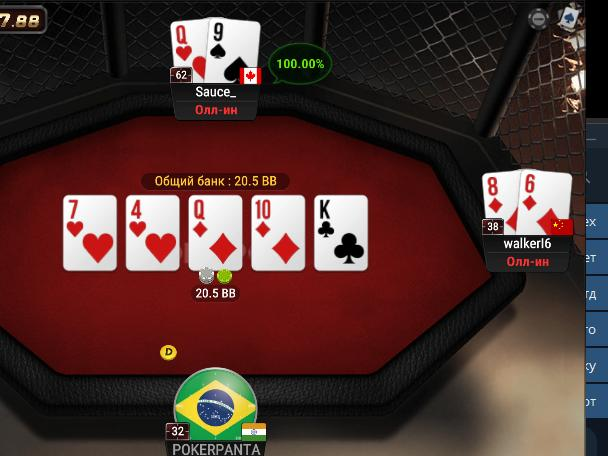10d: (253, 193, 306, 272)
4h: (126, 196, 178, 271)
6d: (519, 171, 573, 237)
7h: (64, 195, 119, 271)
8d: (481, 171, 519, 235)
9s: (207, 19, 259, 84)
Kc: (315, 195, 367, 271)
Qd: (189, 195, 241, 269)
Qh: (170, 18, 207, 82)
